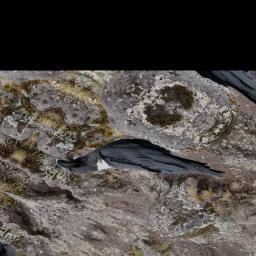Crow: (53, 112, 230, 225)
